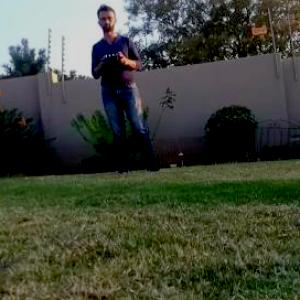follow: (87, 0, 168, 179)
